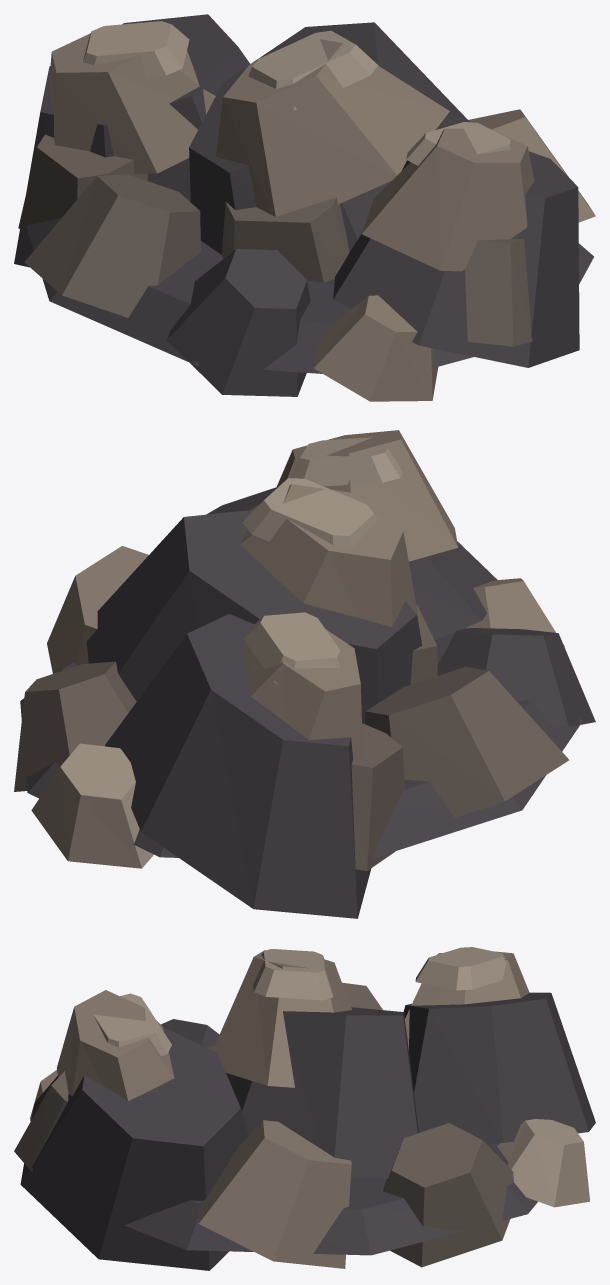
File: shale_barrier.glb
The picture shows the model from 3 angles, top to bottom: view 1: azimuth 30°, elevation 25°; view 2: azimuth 150°, elevation 25°; view 3: azimuth 270°, elevation 25°; orthographic projection. The views are drawn at different scales.
Visible parts, largest first — view 1: Surf_warm, Surf_dark, Surf_mid, Surf_cap; view 2: Surf_dark, Surf_warm, Surf_mid, Surf_cap; view 3: Surf_dark, Surf_warm, Surf_mid, Surf_cap.
Part boxes in pixels (x1,y1,x2,y2): Surf_warm: (49, 33, 595, 401); Surf_dark: (14, 14, 594, 396); Surf_mid: (18, 134, 532, 346); Surf_cap: (83, 21, 512, 165); Surf_dark: (20, 487, 595, 918); Surf_warm: (47, 430, 564, 759); Surf_mid: (14, 605, 569, 870); Surf_cap: (31, 437, 403, 868); Surf_dark: (20, 992, 595, 1270); Surf_warm: (30, 950, 529, 1268); Surf_mid: (14, 982, 513, 1267); Surf_cap: (93, 947, 590, 1207).
Size of the model in its own units: 8.57 by 4.49 by 9.47.
